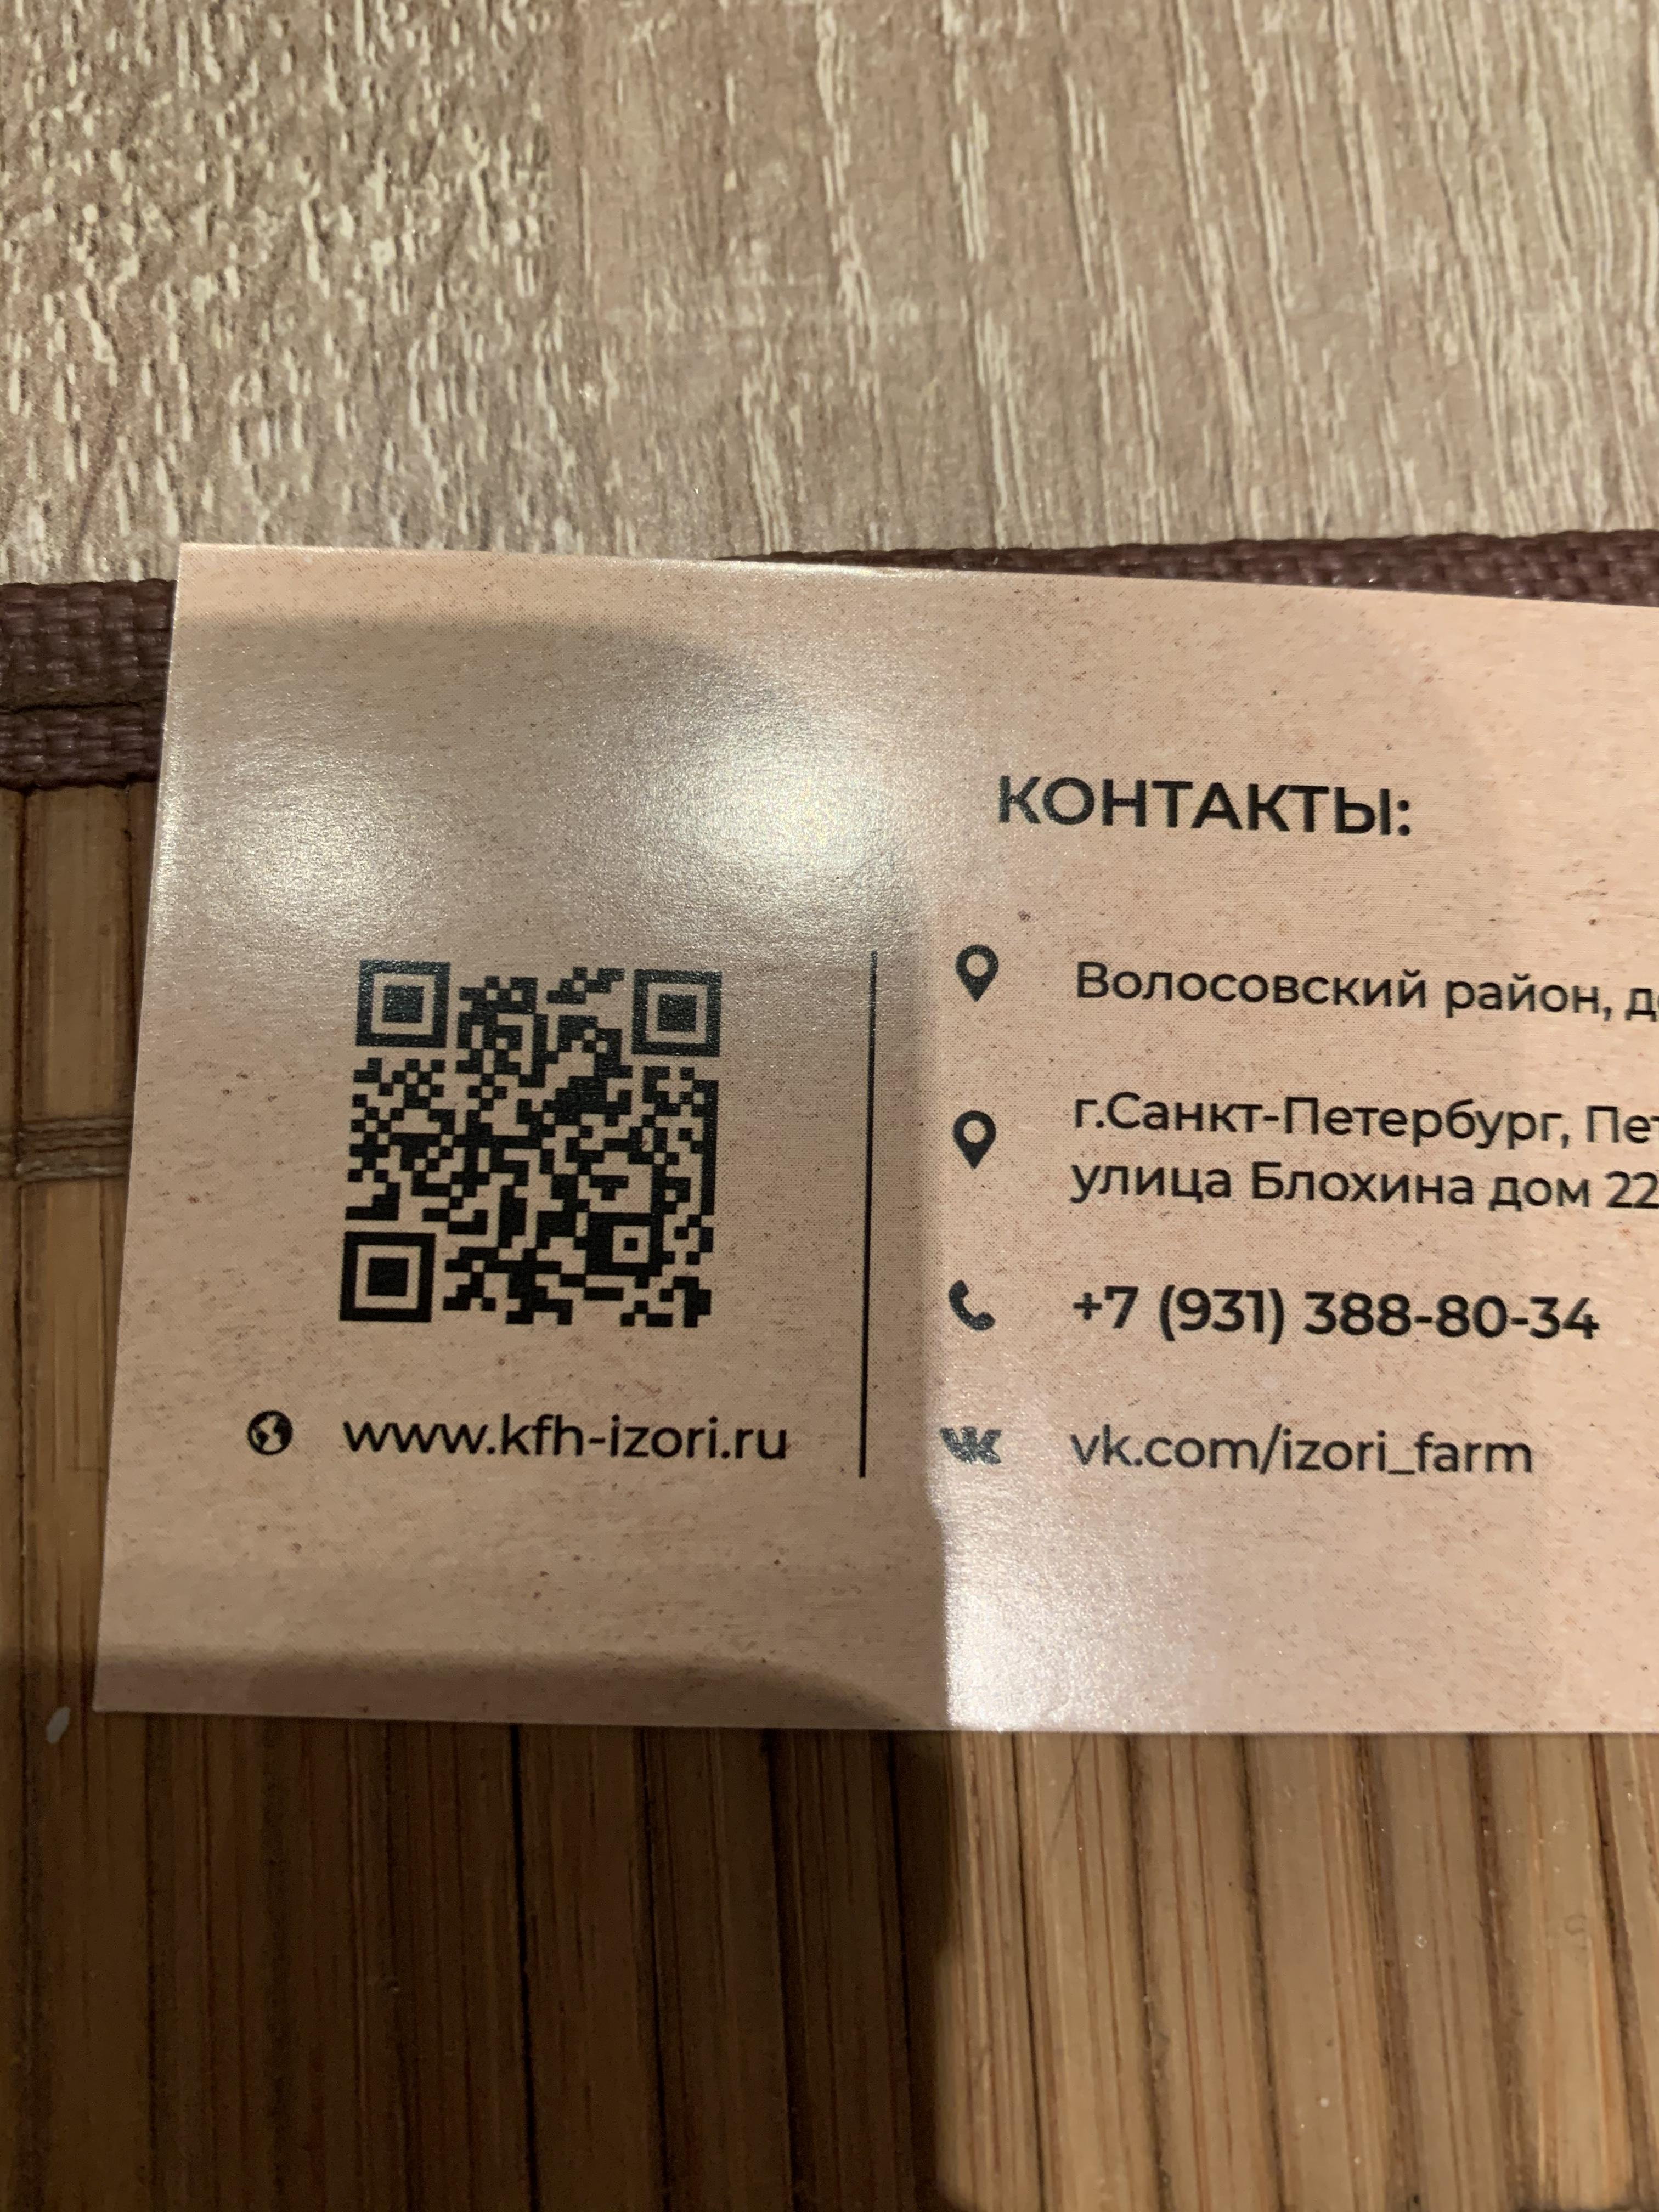qrcode: (342, 954, 727, 1331)
